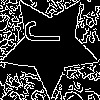J: (25, 20, 68, 45)
